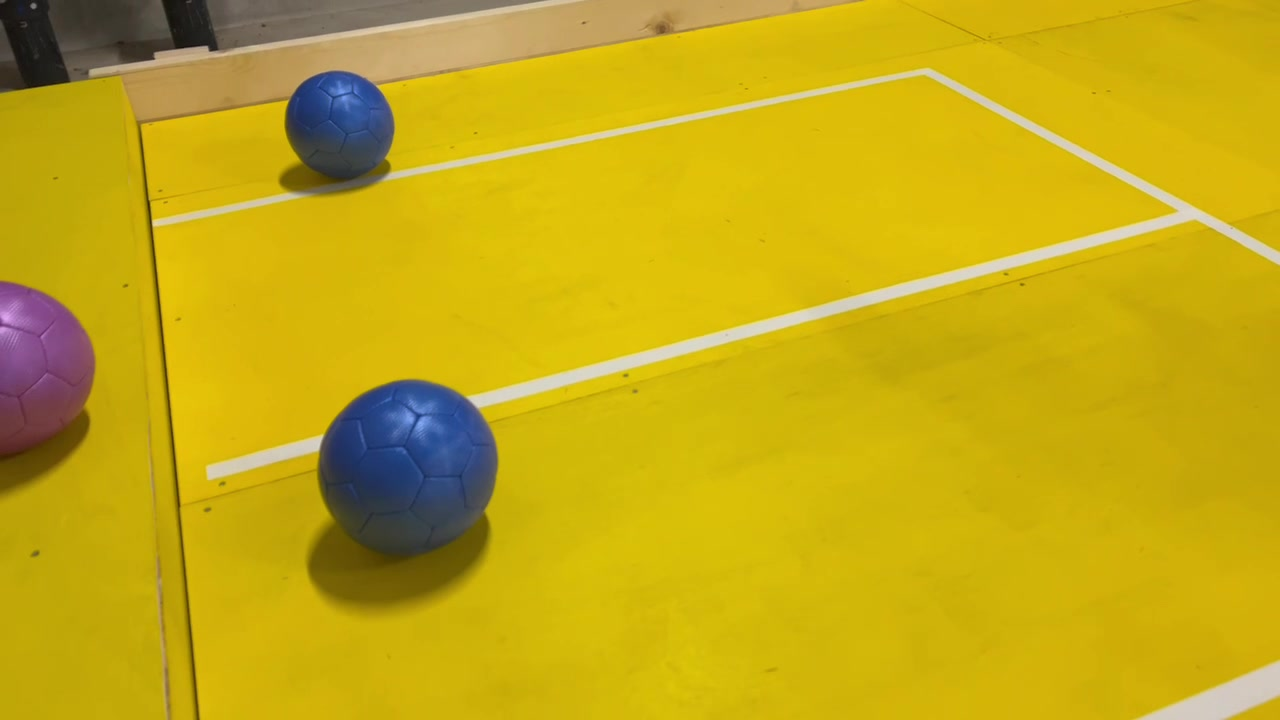blue: (309, 378, 504, 563), (282, 58, 405, 187)
